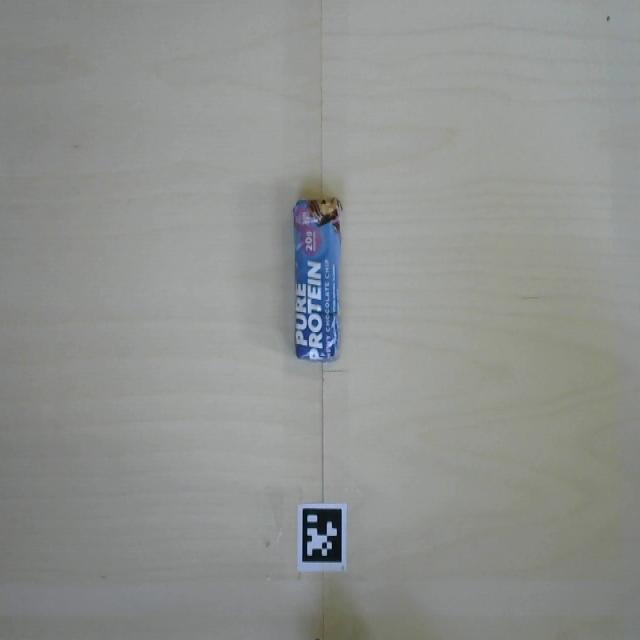proteinbar: (288, 192, 347, 366)
